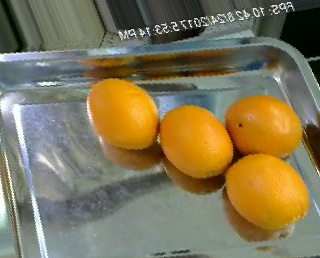Orange: (225, 152, 309, 230), (85, 75, 160, 149), (159, 105, 232, 179), (227, 94, 304, 160)
